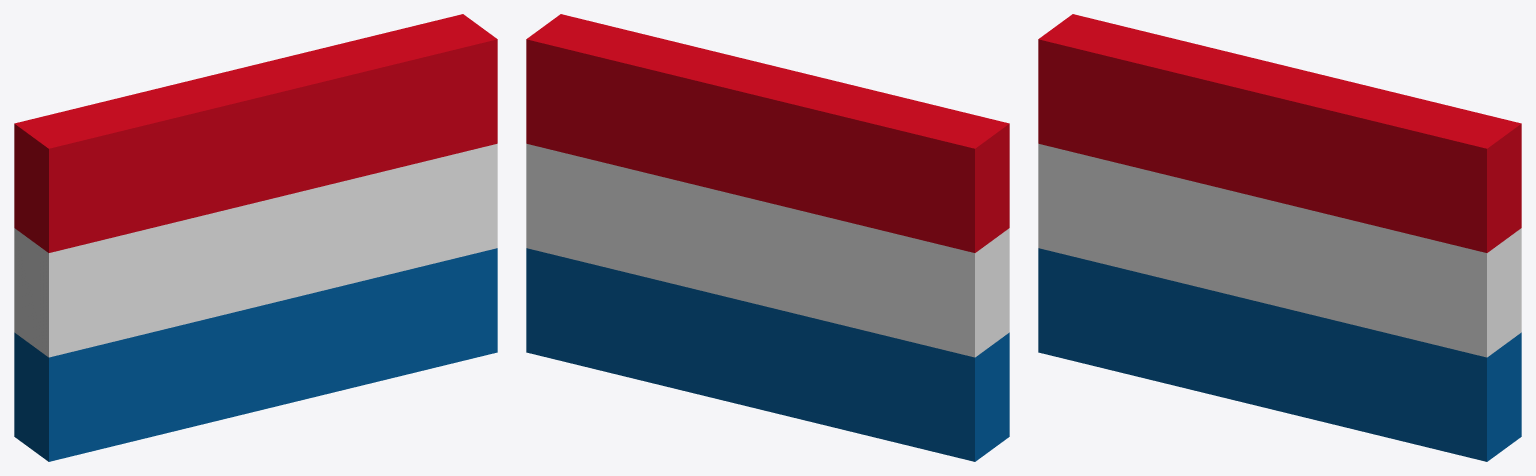
The model's file is FlagTheNetherlands.glb.
3 views of the same model, side by side, from view 1: azimuth 30°, elevation 25°; view 2: azimuth 150°, elevation 25°; view 3: azimuth 330°, elevation 25° (orthographic).
Visible parts, largest first — view 1: FlagTheNetherlands; view 2: FlagTheNetherlands; view 3: FlagTheNetherlands.
Part boxes in pixels (x1,y1,x2,y2): FlagTheNetherlands: [14, 14, 497, 461]; FlagTheNetherlands: [526, 14, 1009, 461]; FlagTheNetherlands: [1038, 14, 1521, 461].
Bounding box in the file's own units: 3 × 2 × 0.4.
